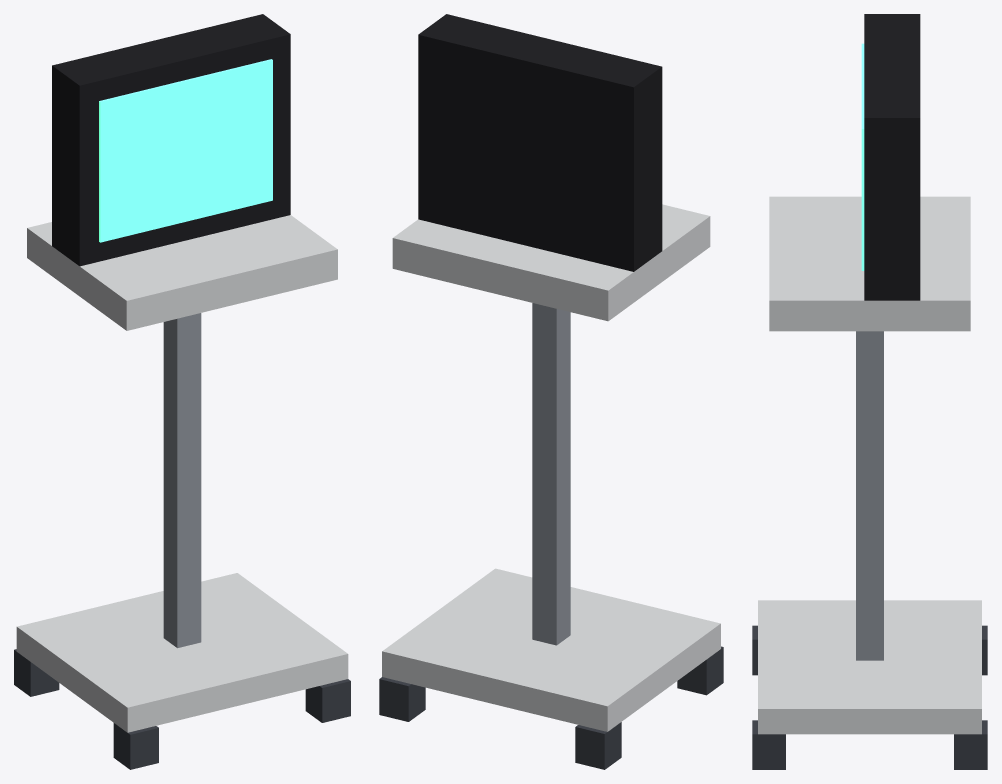
File: hos-monitor.gltf
The picture shows the model from 3 angles, left to right: view 1: azimuth 30°, elevation 25°; view 2: azimuth 150°, elevation 25°; view 3: azimuth 270°, elevation 25°; orthographic projection. The views are drawn at different scales.
Parts seen in each view (by area): view 1: hos-monitor; view 2: hos-monitor; view 3: hos-monitor.
Part boxes in pixels (box(x1,y1,x2,y2)): hos-monitor: box(14, 14, 350, 769); hos-monitor: box(379, 14, 723, 769); hos-monitor: box(752, 14, 987, 769).
Bounding box in the file's own units: 0.46 × 1.28 × 0.42.
